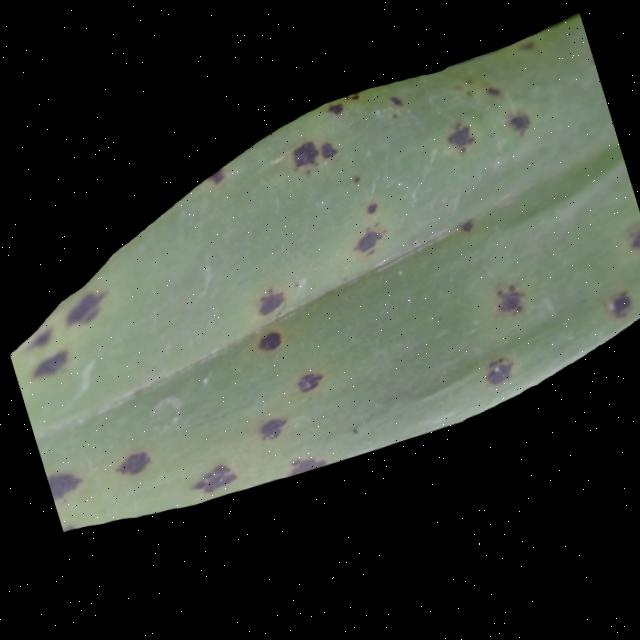mite: (269, 23, 640, 441), (439, 123, 479, 163), (285, 140, 322, 176), (599, 294, 635, 330), (251, 415, 289, 447), (290, 370, 325, 399), (616, 228, 640, 267), (503, 114, 533, 144), (314, 140, 340, 166), (623, 234, 640, 260), (360, 202, 381, 222)
spots: (5, 16, 640, 555)
